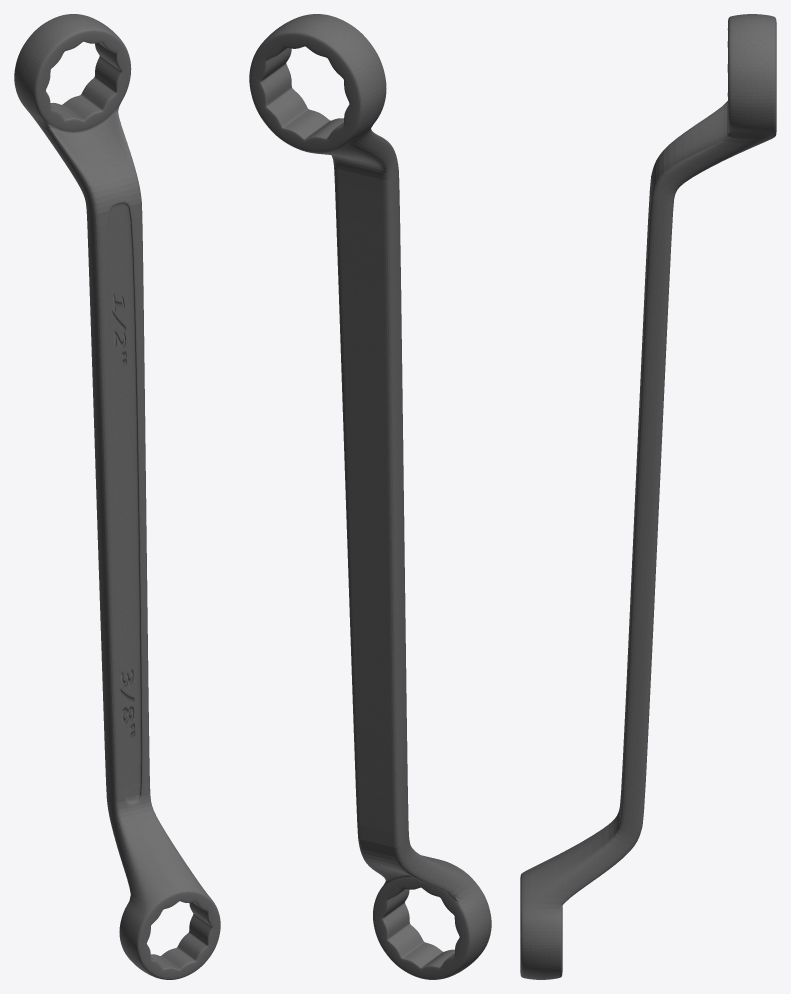
File: Box_Wrench.dae
3 views of the same model, side by side, from view 1: azimuth 30°, elevation 25°; view 2: azimuth 150°, elevation 25°; view 3: azimuth 270°, elevation 25° (orthographic). The views are drawn at different scales.
Parts seen in each view (by area): view 1: node; view 2: node; view 3: node.
Part boxes in pixels (left/top/right/bottom): node: left=14, top=14, right=220, bottom=979; node: left=249, top=14, right=491, bottom=979; node: left=520, top=14, right=776, bottom=979.
Bounding box in the file's own units: 0.7259 × 6.06 × 1.48.
1 material, 1 textured.
